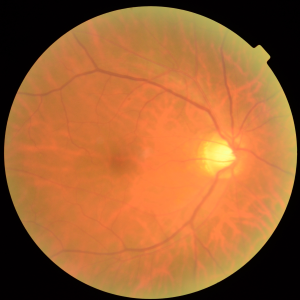glaucoma: (95, 89, 276, 214)
